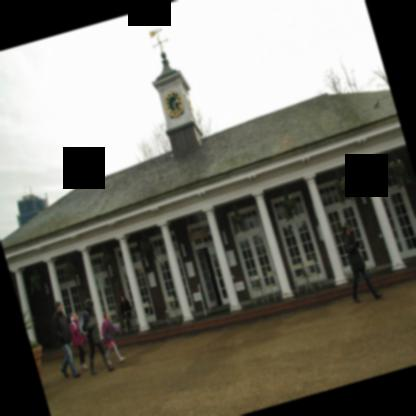backpack: (78, 311, 89, 337), (72, 321, 76, 335), (101, 322, 104, 338)
